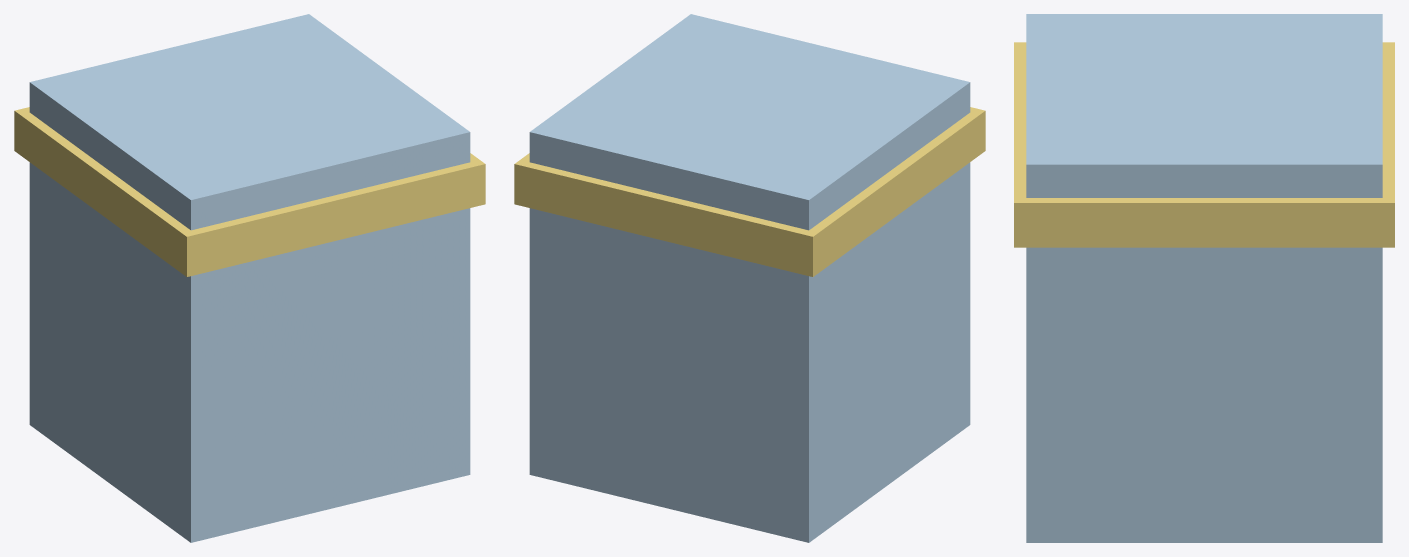
File: pirata_neve_manga_sup.glb
The picture shows the model from 3 angles, left to right: view 1: azimuth 30°, elevation 25°; view 2: azimuth 150°, elevation 25°; view 3: azimuth 270°, elevation 25°; orthographic projection. The views are drawn at different scales.
Parts seen in each view (by area): view 1: pirata_neve_manga_sup; view 2: pirata_neve_manga_sup; view 3: pirata_neve_manga_sup.
Part boxes in pixels (x1,y1,x2,y2): pirata_neve_manga_sup: [14, 14, 485, 542]; pirata_neve_manga_sup: [514, 14, 985, 542]; pirata_neve_manga_sup: [1014, 14, 1394, 542].
Bounding box in the file's own units: 0.31 × 0.34 × 0.31.
